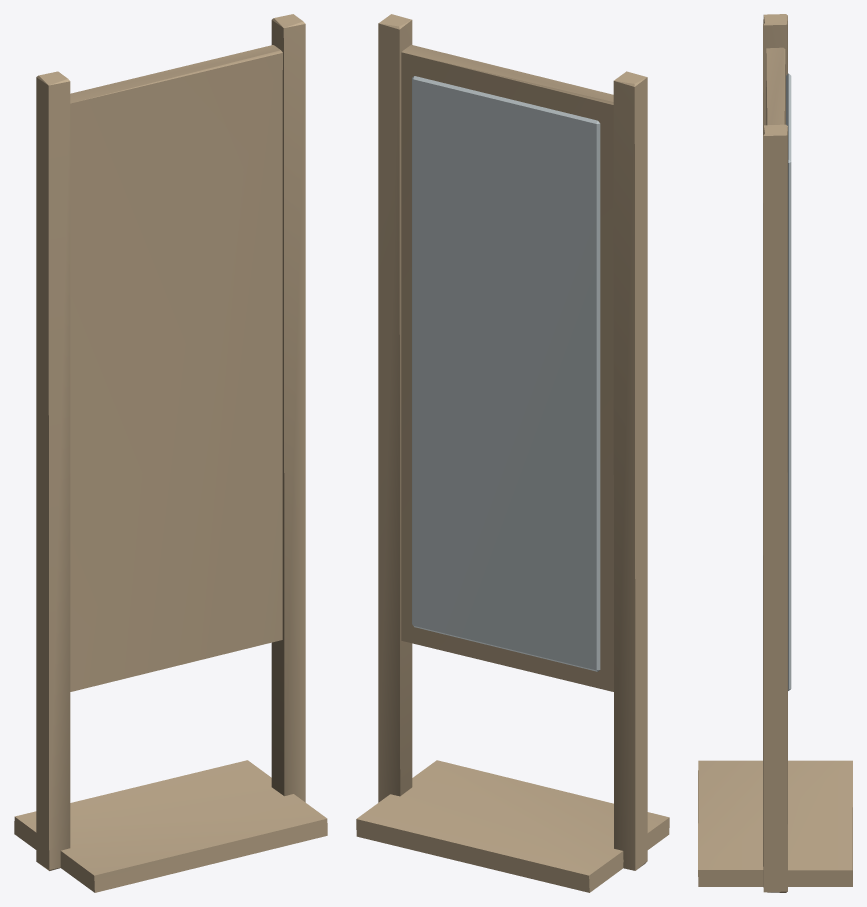
Rendered from furn_mirror_stand__oak_low.glb.
The picture shows the model from 3 angles, left to right: view 1: azimuth 30°, elevation 25°; view 2: azimuth 150°, elevation 25°; view 3: azimuth 270°, elevation 25°; orthographic projection. The views are drawn at different scales.
Size of the model in its own units: 0.5462 by 1.6 by 0.2958.
